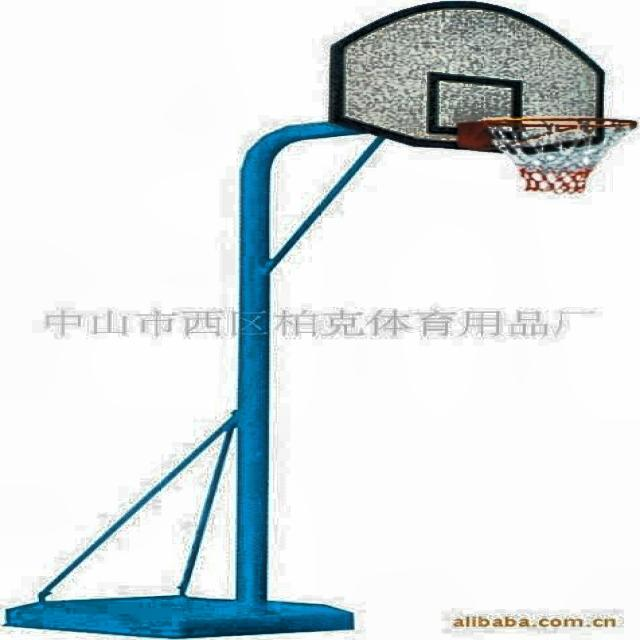rim: (492, 116, 640, 196)
